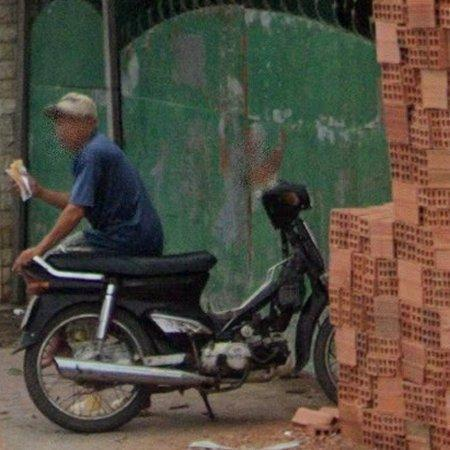motorcycles: (20, 182, 337, 433)
